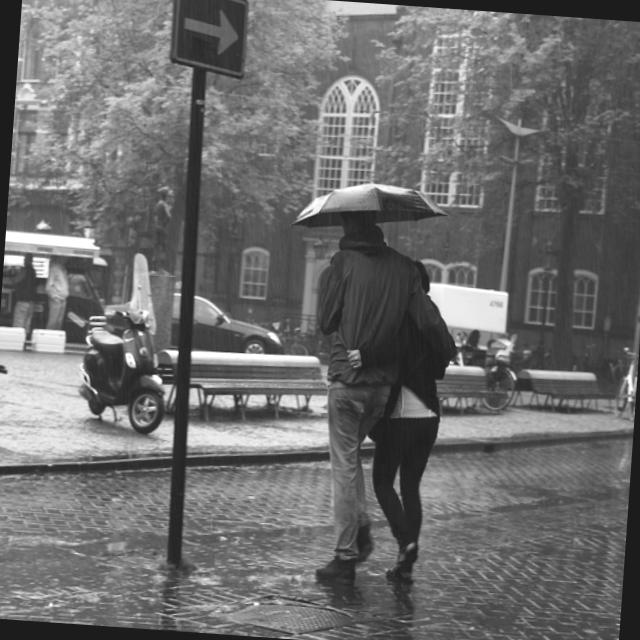Vehicle: (77, 302, 172, 444), (170, 293, 287, 356)
